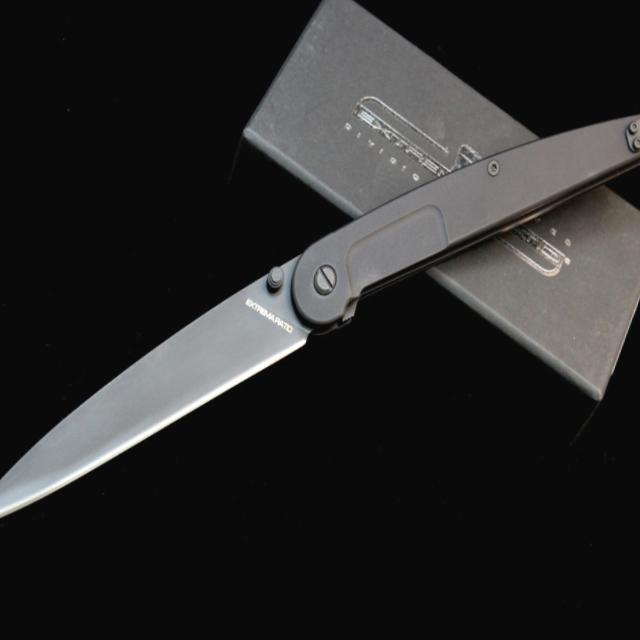knife: (0, 183, 331, 618)
